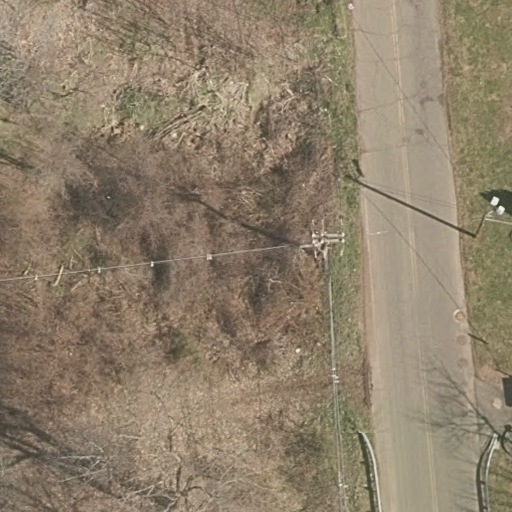DT: (298, 215, 353, 280)
